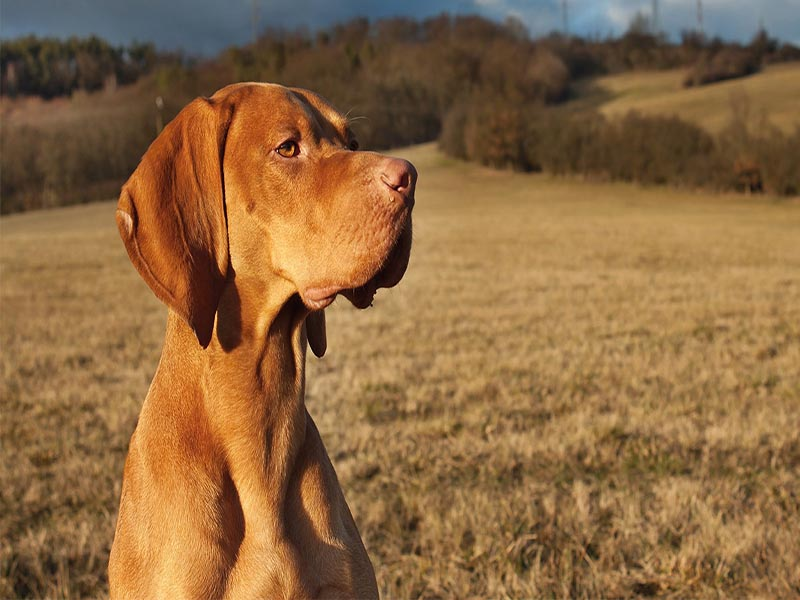cane da caccia: (93, 70, 423, 591)
